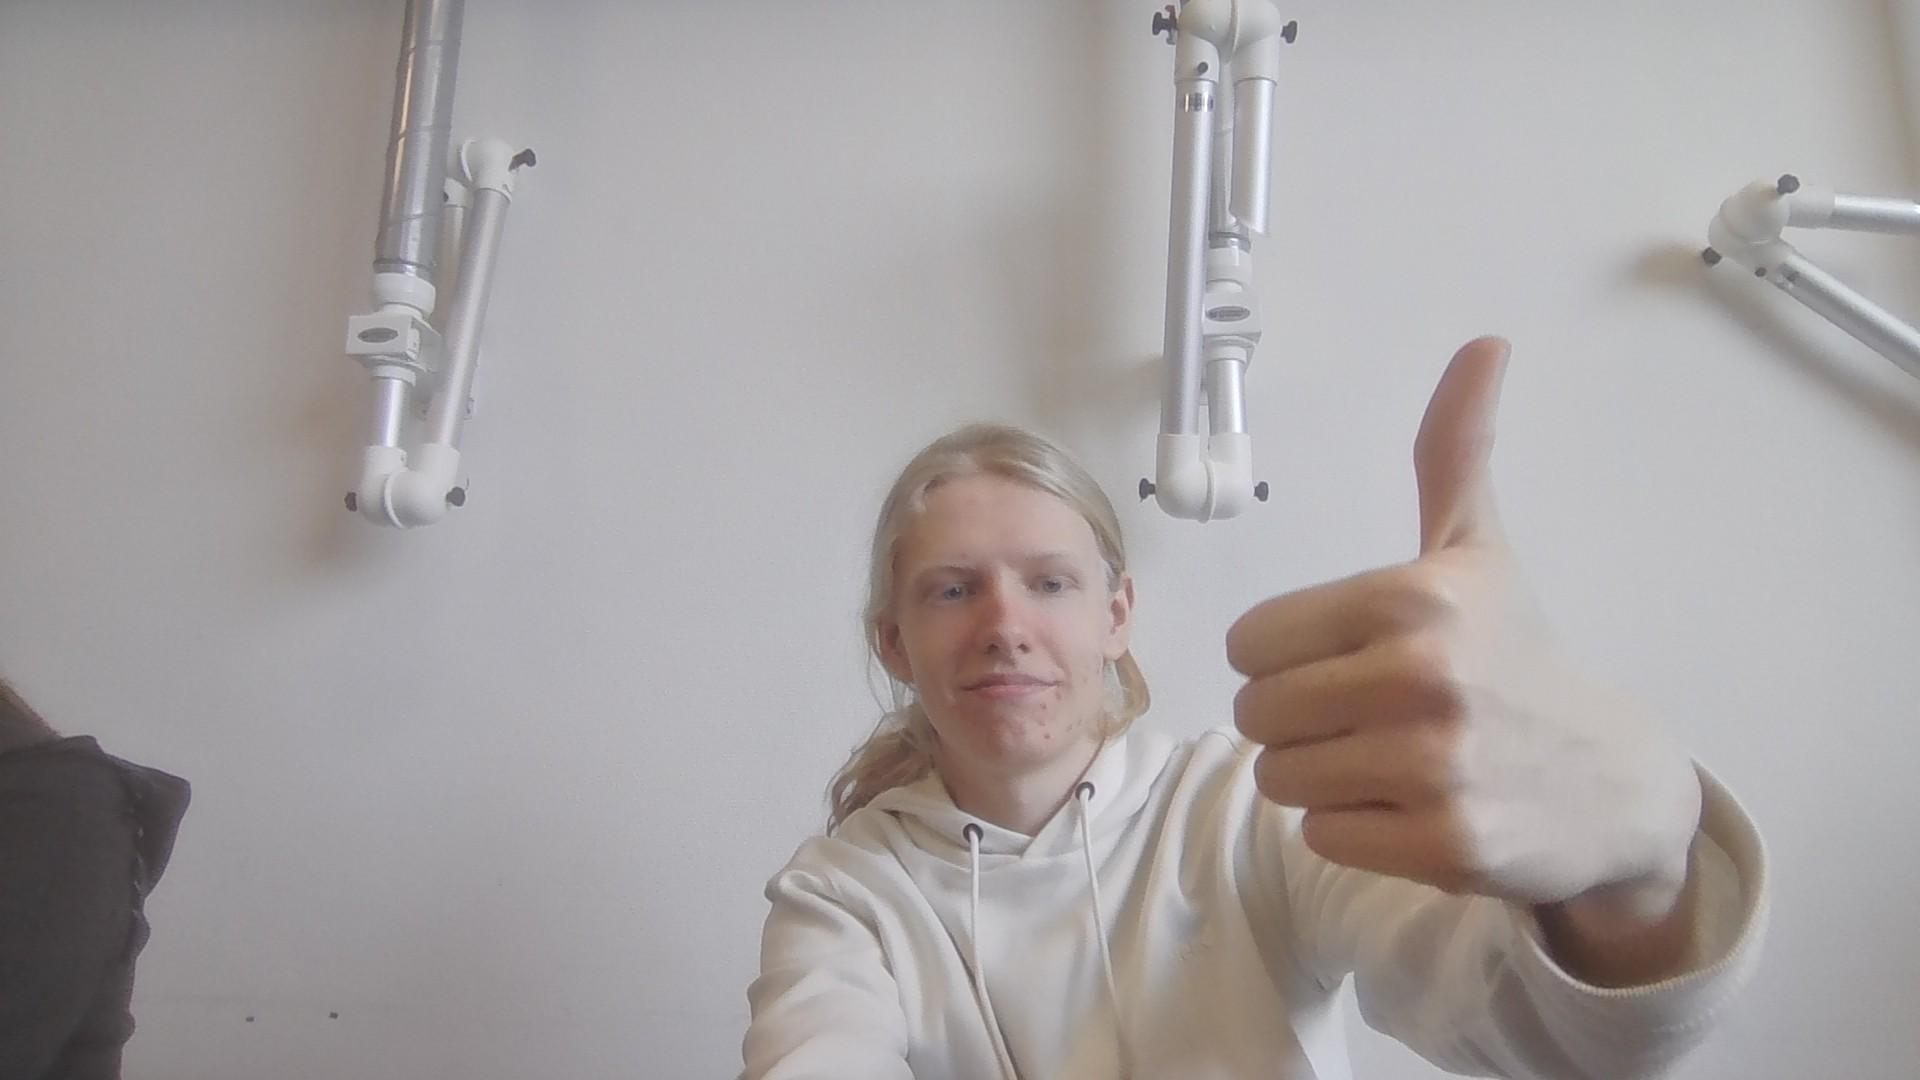thumbs up: (1225, 331, 1693, 905)
